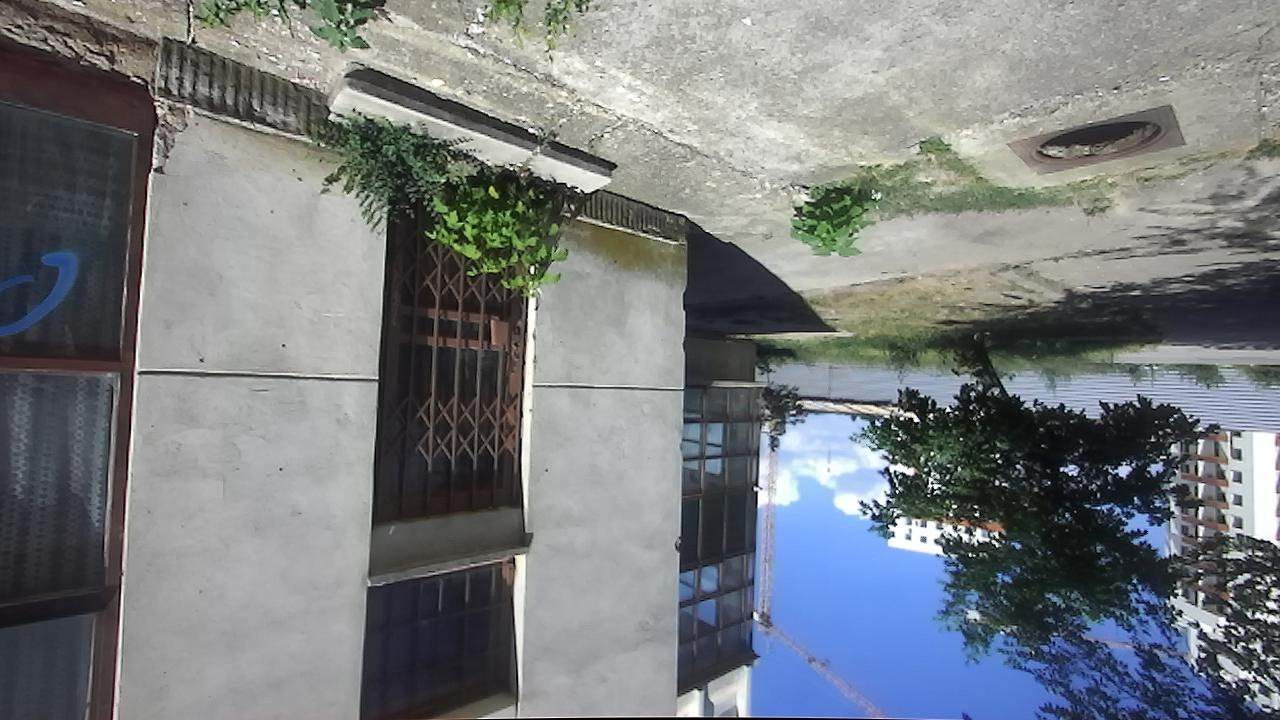drain: (1023, 111, 1162, 166)
